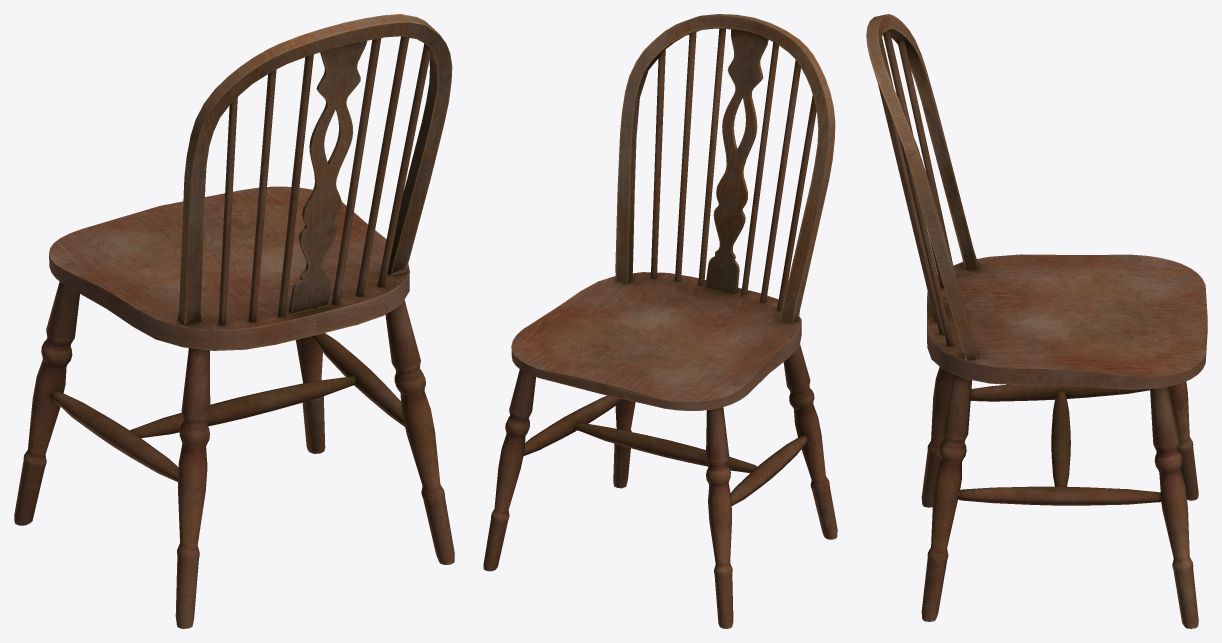
Rendered from chair.glb.
The picture shows the model from 3 angles, left to right: view 1: azimuth 30°, elevation 25°; view 2: azimuth 150°, elevation 25°; view 3: azimuth 270°, elevation 25°; orthographic projection. The views are drawn at different scales.
Parts seen in each view (by area): view 1: chair_middle.001; view 2: chair_middle.001; view 3: chair_middle.001.
Boxes of the visible parts, <box> form: chair_middle.001: <box>14,14,454,628</box>; chair_middle.001: <box>483,14,837,628</box>; chair_middle.001: <box>866,14,1207,628</box>.
Size of the model in its own units: 0.5321 by 0.975 by 0.5702.
1 material, 1 textured.
